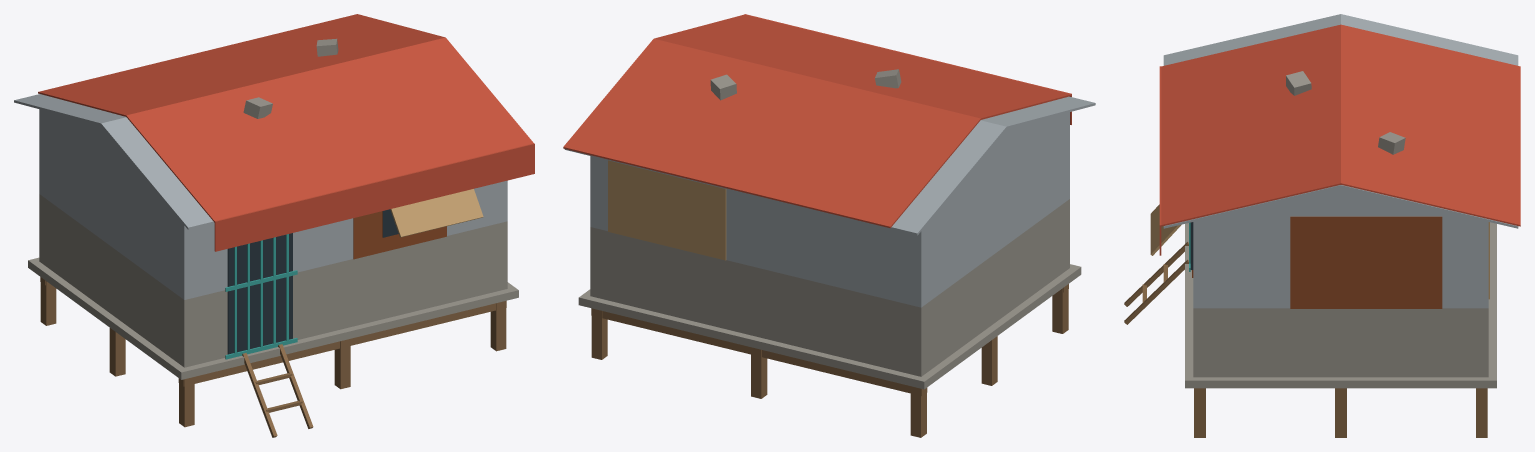
Rendered from BAY_I_TarpShack_E.glb.
3 views of the same model, side by side, from view 1: azimuth 30°, elevation 25°; view 2: azimuth 150°, elevation 25°; view 3: azimuth 270°, elevation 25° (orthographic). The views are drawn at different scales.
Parts seen in each view (by area): view 1: BAY_I_TarpShack_E; view 2: BAY_I_TarpShack_E; view 3: BAY_I_TarpShack_E.
Boxes of the visible parts, x1,y1,x2,y2 form: BAY_I_TarpShack_E: (14,14,534,437); BAY_I_TarpShack_E: (563,14,1095,437); BAY_I_TarpShack_E: (1124,14,1520,437).
Bounding box in the file's own units: 4.8 × 3.46 × 4.7.
1 material, 1 textured.
